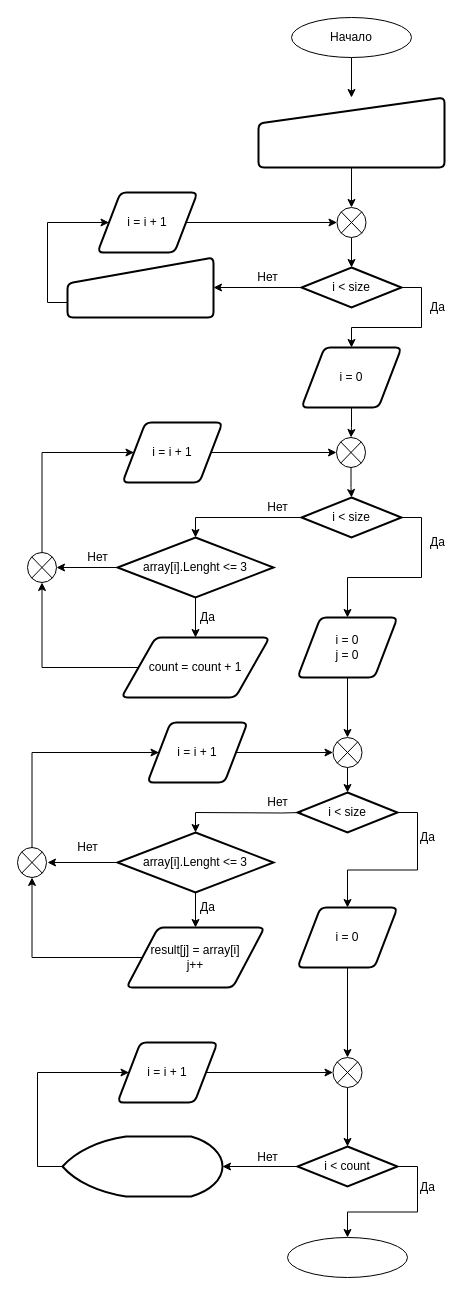
Some shapes in this 475 by 1295 pixel diagram are drawn without their labels. The shapes that lost their labels are listed below. From the top down, each one's centre as x and y in pixels, then its label:
At (x=351, y=132): "Ввод размера массива size".
At (x=140, y=287): "Ввести строку".
At (x=142, y=1166): "Вывод на экран result[i]".
At (x=347, y=1257): "Конец".
